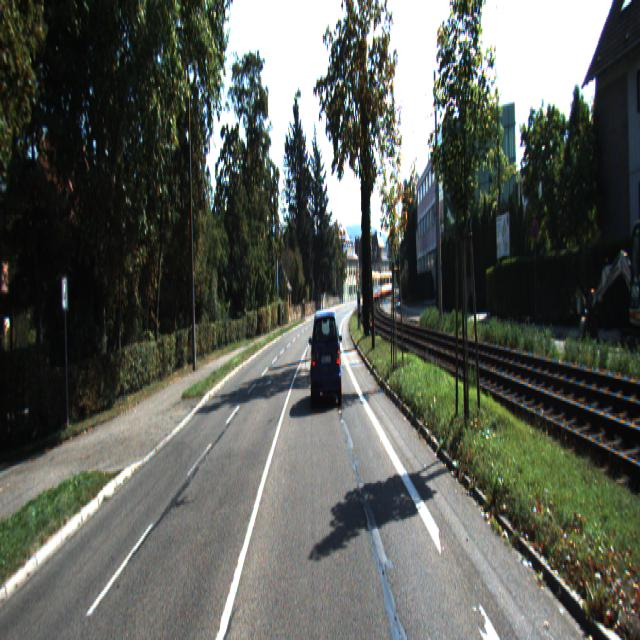Car: (311, 308, 343, 412), (629, 215, 640, 341)
